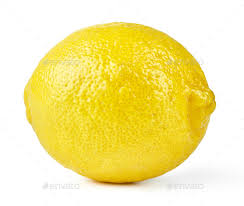lemon: (11, 13, 236, 198)
